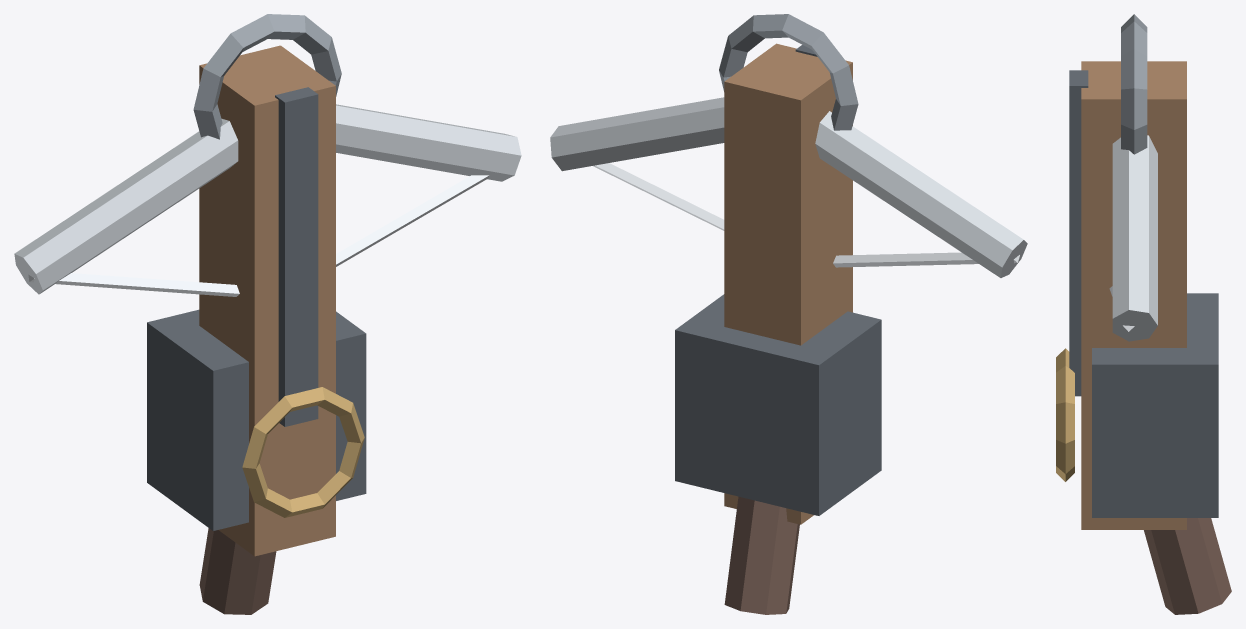
File: one_handed_crossbow.glb
3 renders of one model, left to right at view 1: azimuth 30°, elevation 25°; view 2: azimuth 150°, elevation 25°; view 3: azimuth 270°, elevation 25°, orthographic. The views are drawn at different scales.
Parts seen in each view (by area): view 1: Stock, TriggerHousing, BoltGroove, LeftLimb, RightLimb, Trigger, FootStirrup, PistolGrip, StringLeft.003, StringRight.003; view 2: TriggerHousing, Stock, LeftLimb, RightLimb, PistolGrip, FootStirrup, StringLeft.003, StringRight.003; view 3: TriggerHousing, Stock, RightLimb, PistolGrip, BoltGroove, FootStirrup, Trigger.
Part boxes in pixels (<box>): Stock: <box>199,45,335,556</box>; TriggerHousing: <box>147,309,366,530</box>; BoltGroove: <box>275,87,318,426</box>; LeftLimb: <box>14,118,238,294</box>; RightLimb: <box>336,104,521,181</box>; Trigger: <box>242,387,364,517</box>; FootStirrup: <box>193,14,341,139</box>; PistolGrip: <box>199,528,276,614</box>; StringLeft.003: <box>28,273,239,296</box>; StringRight.003: <box>336,175,489,266</box>; TriggerHousing: <box>675,294,881,515</box>; Stock: <box>724,43,852,524</box>; LeftLimb: <box>815,111,1027,277</box>; RightLimb: <box>550,97,724,171</box>; PistolGrip: <box>724,496,799,614</box>; FootStirrup: <box>719,14,858,130</box>; StringLeft.003: <box>833,252,1019,267</box>; StringRight.003: <box>593,163,724,230</box>; TriggerHousing: <box>1092,293,1218,517</box>; Stock: <box>1081,61,1186,529</box>; RightLimb: <box>1112,135,1157,341</box>; PistolGrip: <box>1144,518,1231,614</box>; BoltGroove: <box>1069,70,1088,396</box>; FootStirrup: <box>1121,14,1147,154</box>; Trigger: <box>1056,348,1074,481</box>.
Size of the model in its own units: 1.03 by 1.22 by 0.333.
